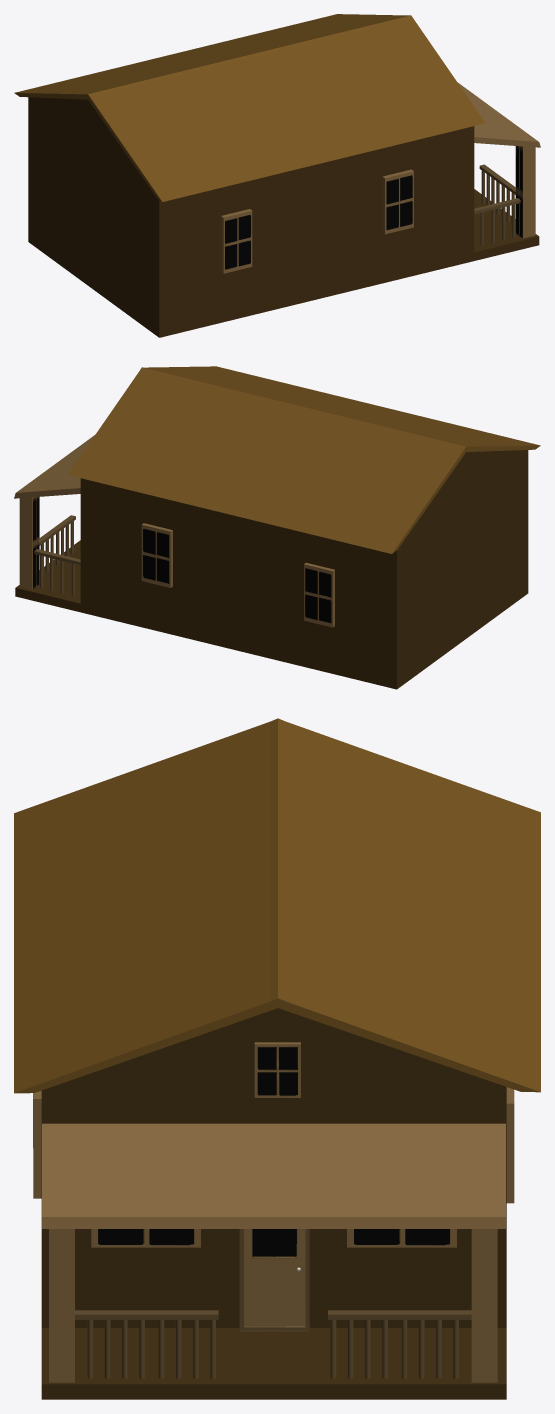
Rendered from house3.glb.
3 views of the same model, one above another, from view 1: azimuth 30°, elevation 25°; view 2: azimuth 150°, elevation 25°; view 3: azimuth 270°, elevation 25° (orthographic). The views are drawn at different scales.
Visible parts, largest first — view 1: Cube, Cube.001, Cube.004, Cube.015, Cube.003, Cube.002, Cylinder.025, Cube.006; view 2: Cube, Cube.001, Cube.013, Cube.003, Cube.014, Cube.002, Cylinder.025, Cube.006; view 3: Cube.001, Cube, Cube.002, Cube.003, Cube.012, Cylinder.025, Cube.006, Cube.009, Cube.010, Cube.011, Cube.013, Cube.015.
Boxes of the visible parts, bbox=[...] form: Cube: bbox=[28, 97, 539, 337]; Cube.001: bbox=[14, 14, 485, 201]; Cube.004: bbox=[221, 209, 252, 273]; Cube.015: bbox=[382, 169, 413, 234]; Cube.003: bbox=[515, 146, 535, 238]; Cube.002: bbox=[457, 82, 540, 147]; Cylinder.025: bbox=[474, 170, 515, 246]; Cube.006: bbox=[474, 164, 520, 214]; Cube: bbox=[15, 450, 528, 689]; Cube.001: bbox=[68, 366, 540, 553]; Cube.013: bbox=[141, 523, 172, 587]; Cube.003: bbox=[19, 497, 39, 589]; Cube.014: bbox=[304, 562, 334, 627]; Cube.002: bbox=[14, 435, 94, 498]; Cylinder.025: bbox=[40, 521, 74, 596]; Cube.006: bbox=[34, 515, 80, 565]; Cube.001: bbox=[14, 718, 540, 1093]; Cube: bbox=[41, 1008, 506, 1399]; Cube.002: bbox=[42, 1123, 505, 1228]; Cube.003: bbox=[49, 1229, 497, 1382]; Cube.012: bbox=[239, 1229, 309, 1331]; Cylinder.025: bbox=[87, 1320, 458, 1378]; Cube.006: bbox=[75, 1310, 471, 1319]; Cube.009: bbox=[254, 1042, 300, 1097]; Cube.010: bbox=[91, 1229, 200, 1247]; Cube.011: bbox=[347, 1229, 456, 1247]; Cube.013: bbox=[506, 1087, 514, 1203]; Cube.015: bbox=[33, 1090, 41, 1198].
Size of the model in its own units: 272 by 132 by 181.
5 materials, 4 textured.
